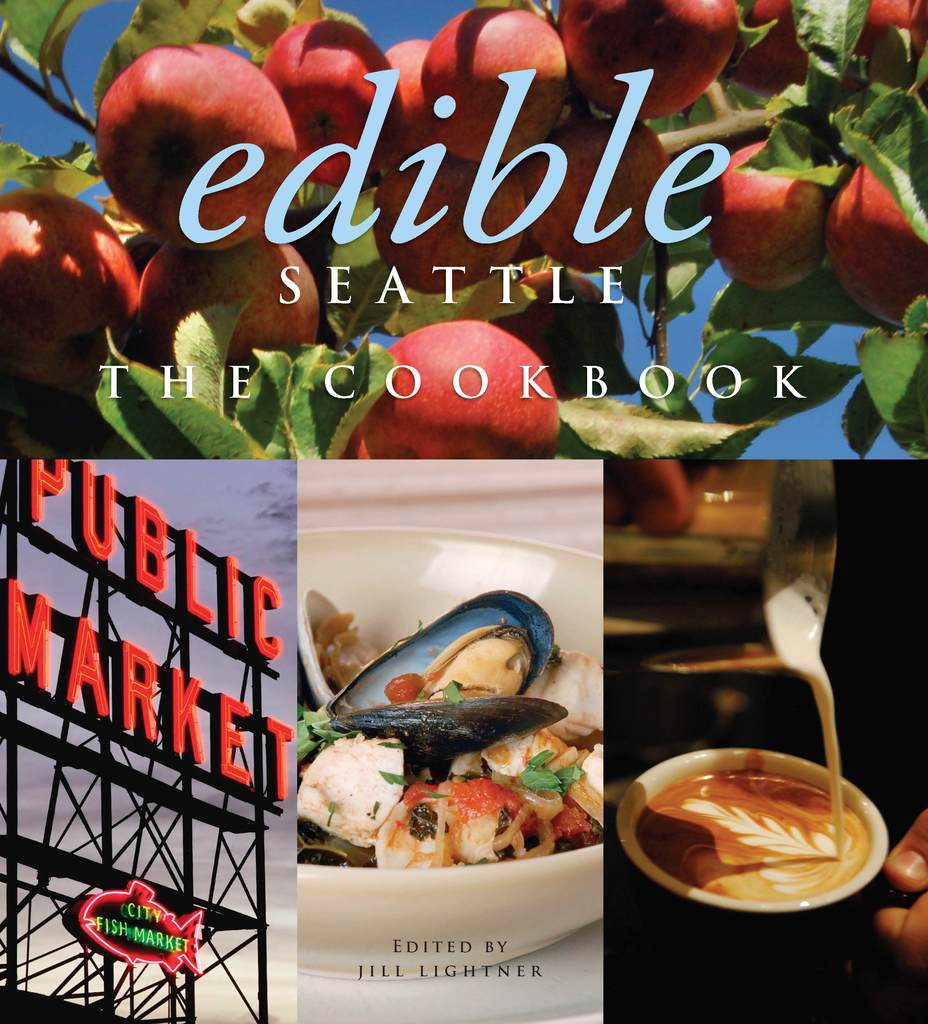Apple: (0, 0, 927, 458), (349, 321, 576, 458)
